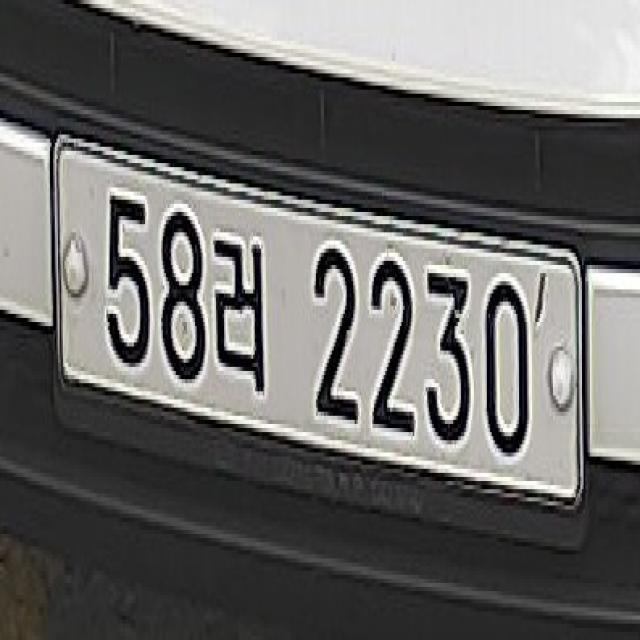plat: (50, 131, 592, 547)
